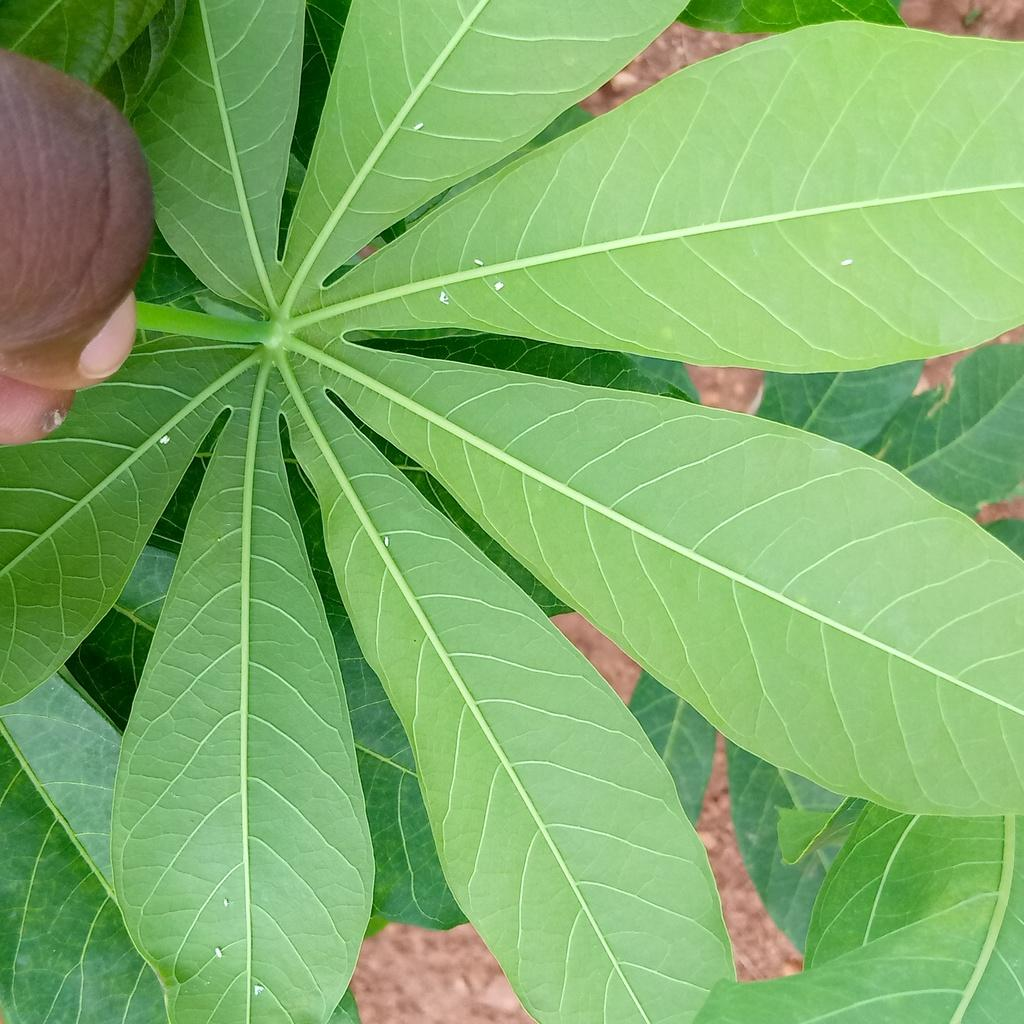adult: (439, 291, 449, 304), (159, 435, 170, 445), (254, 985, 264, 996), (412, 122, 424, 131), (494, 281, 504, 291), (214, 947, 223, 958), (840, 259, 853, 266), (473, 258, 484, 266), (223, 898, 231, 907), (384, 536, 390, 546)
